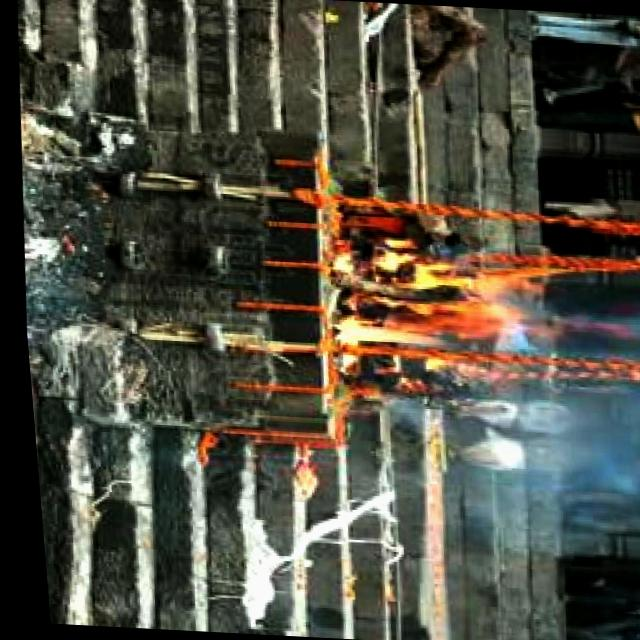Fire: (315, 254, 564, 359)
